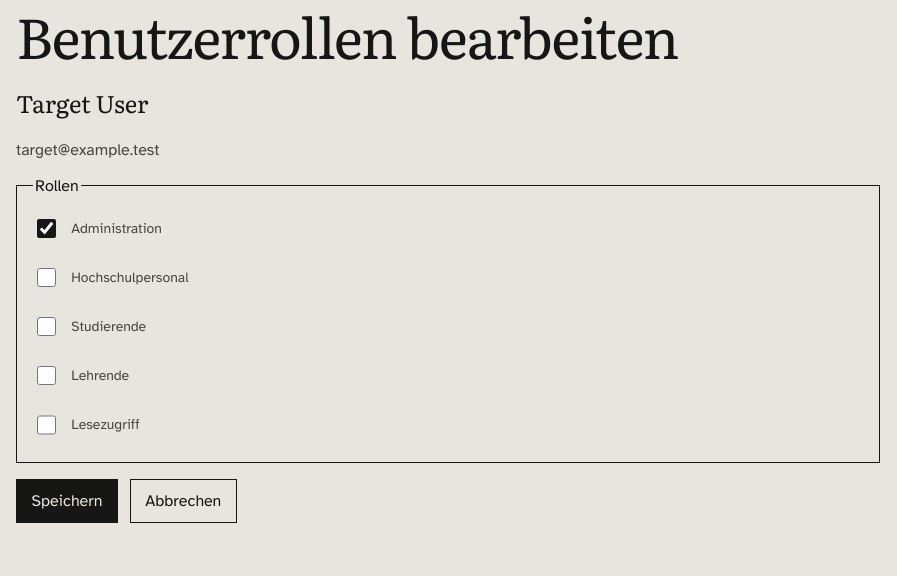
Test: role management page › explains why the final administrator cannot remove their Admin role
Expected: the heading "Target User" is shown, [16,85,148,120]
Click the checkbox labelled "Administration": (47, 228) [37,219,56,238]
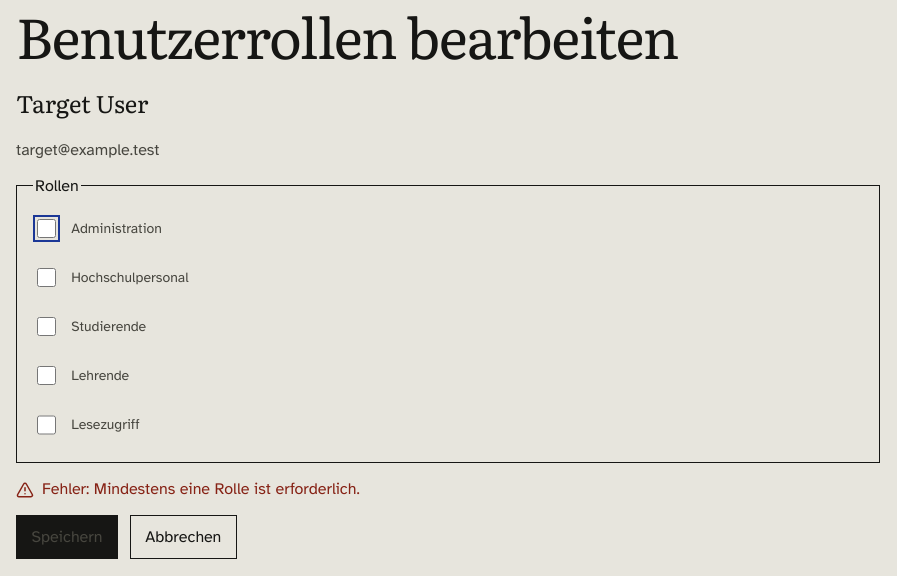
Click the checkbox labelled "Lesezugriff": (47, 425) [37,415,56,435]
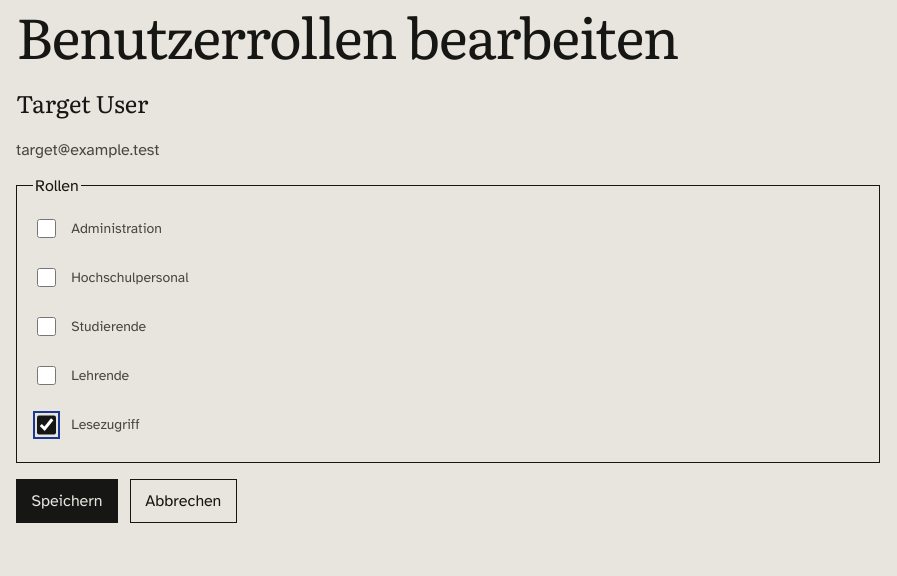
Click the button "Speichern": (67, 500) [16,478,118,522]
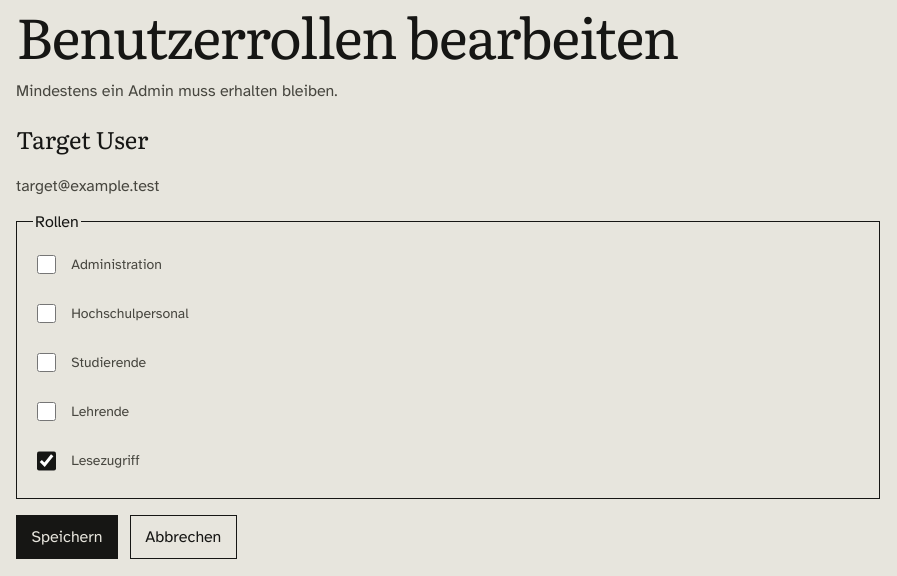
Now the message shows "Mindestens ein Admin muss erhalten bleiben", box [16,81,338,101]
